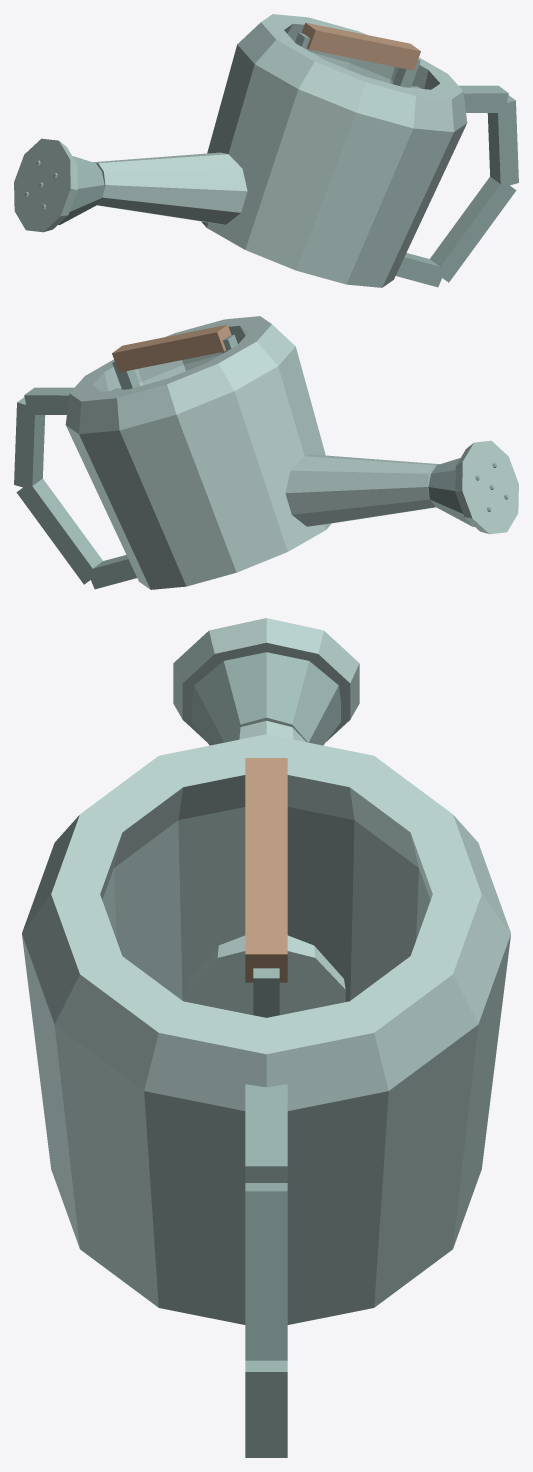
The model's file is crafted-tool-watering-can-1.glb.
The picture shows the model from 3 angles, top to bottom: view 1: azimuth 30°, elevation 25°; view 2: azimuth 150°, elevation 25°; view 3: azimuth 270°, elevation 25°; orthographic projection. The views are drawn at different scales.
Visible parts, largest first — view 1: vessel, spout, rose, handle-2, top-grip, handle-1, rose-neck, handle, handle-3, grip-support-1; view 2: vessel, spout, rose, handle-2, top-grip, handle-1, rose-neck, handle, handle-3, grip-support-1; view 3: vessel, rose-neck, top-grip, rose, spout, handle-1, handle-2, handle, grip-support-1.
Part boxes in pixels (x1,y1,x2,y2): vessel: (201,14,467,287); spout: (93,152,247,224); rose: (14,138,77,232); handle-2: (430,176,516,282); top-grip: (301,22,420,70); handle-1: (487,95,518,187); rose-neck: (58,156,104,224); handle: (411,85,508,112); handle-3: (396,253,444,287); grip-support-1: (392,59,420,87); vessel: (65,316,331,589); spout: (285,454,439,526); rose: (455,440,518,534); handle-2: (16,478,102,584); top-grip: (112,324,231,372); handle-1: (14,397,45,489); rose-neck: (428,458,474,526); handle: (24,387,121,414); handle-3: (91,555,136,589); grip-support-1: (112,361,140,389); vessel: (22,734,510,1324); rose-neck: (192,652,340,745); top-grip: (245,758,287,982); rose: (173,618,359,741); spout: (187,720,345,1015); handle-1: (245,1183,287,1360); handle-2: (245,1360,287,1457); handle: (245,1084,287,1182); grip-support-1: (253,968,279,1017).
Size of the model in its own units: 1.15 by 0.6473 by 0.5.
